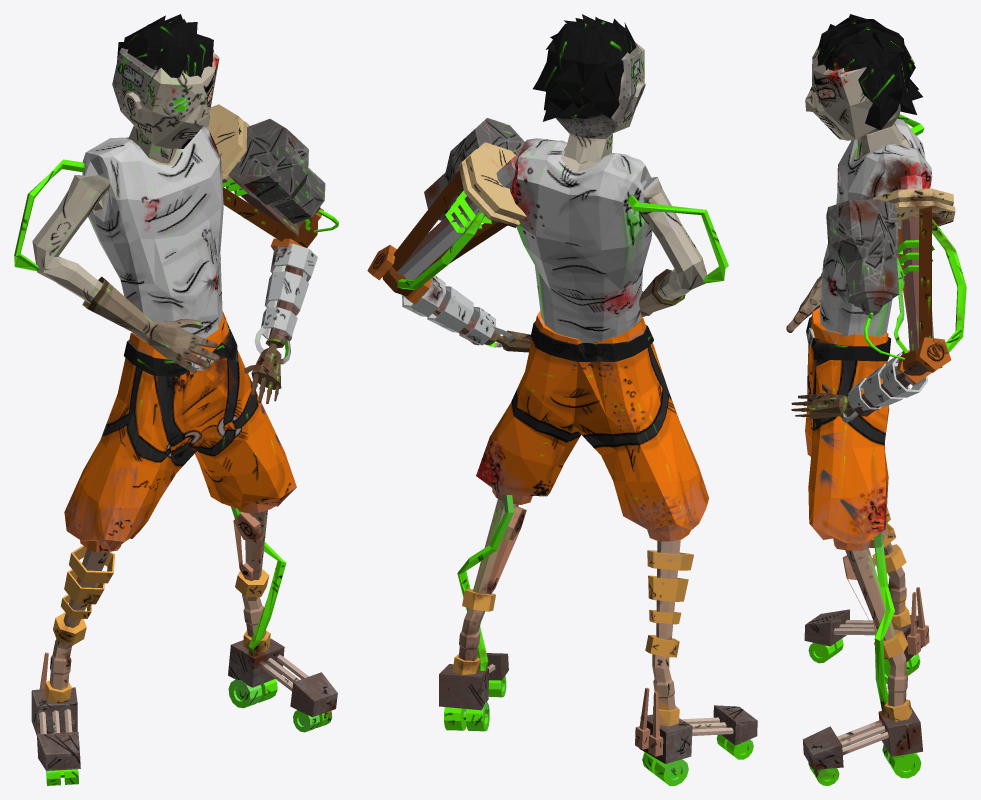
Rendered from CyborgFINALAnimation_000074.obj.
The picture shows the model from 3 angles, left to right: view 1: azimuth 30°, elevation 25°; view 2: azimuth 150°, elevation 25°; view 3: azimuth 270°, elevation 25°; orthographic projection. The views are drawn at different scales.
Parts seen in each view (by area): view 1: CyborgMesh_Cube.002; view 2: CyborgMesh_Cube.002; view 3: CyborgMesh_Cube.002.
Part boxes in pixels (x1,y1,x2,y2): CyborgMesh_Cube.002: [14, 14, 338, 785]; CyborgMesh_Cube.002: [367, 14, 757, 785]; CyborgMesh_Cube.002: [786, 14, 966, 785].
Bounding box in the file's own units: 4.6 × 9.59 × 2.23.
